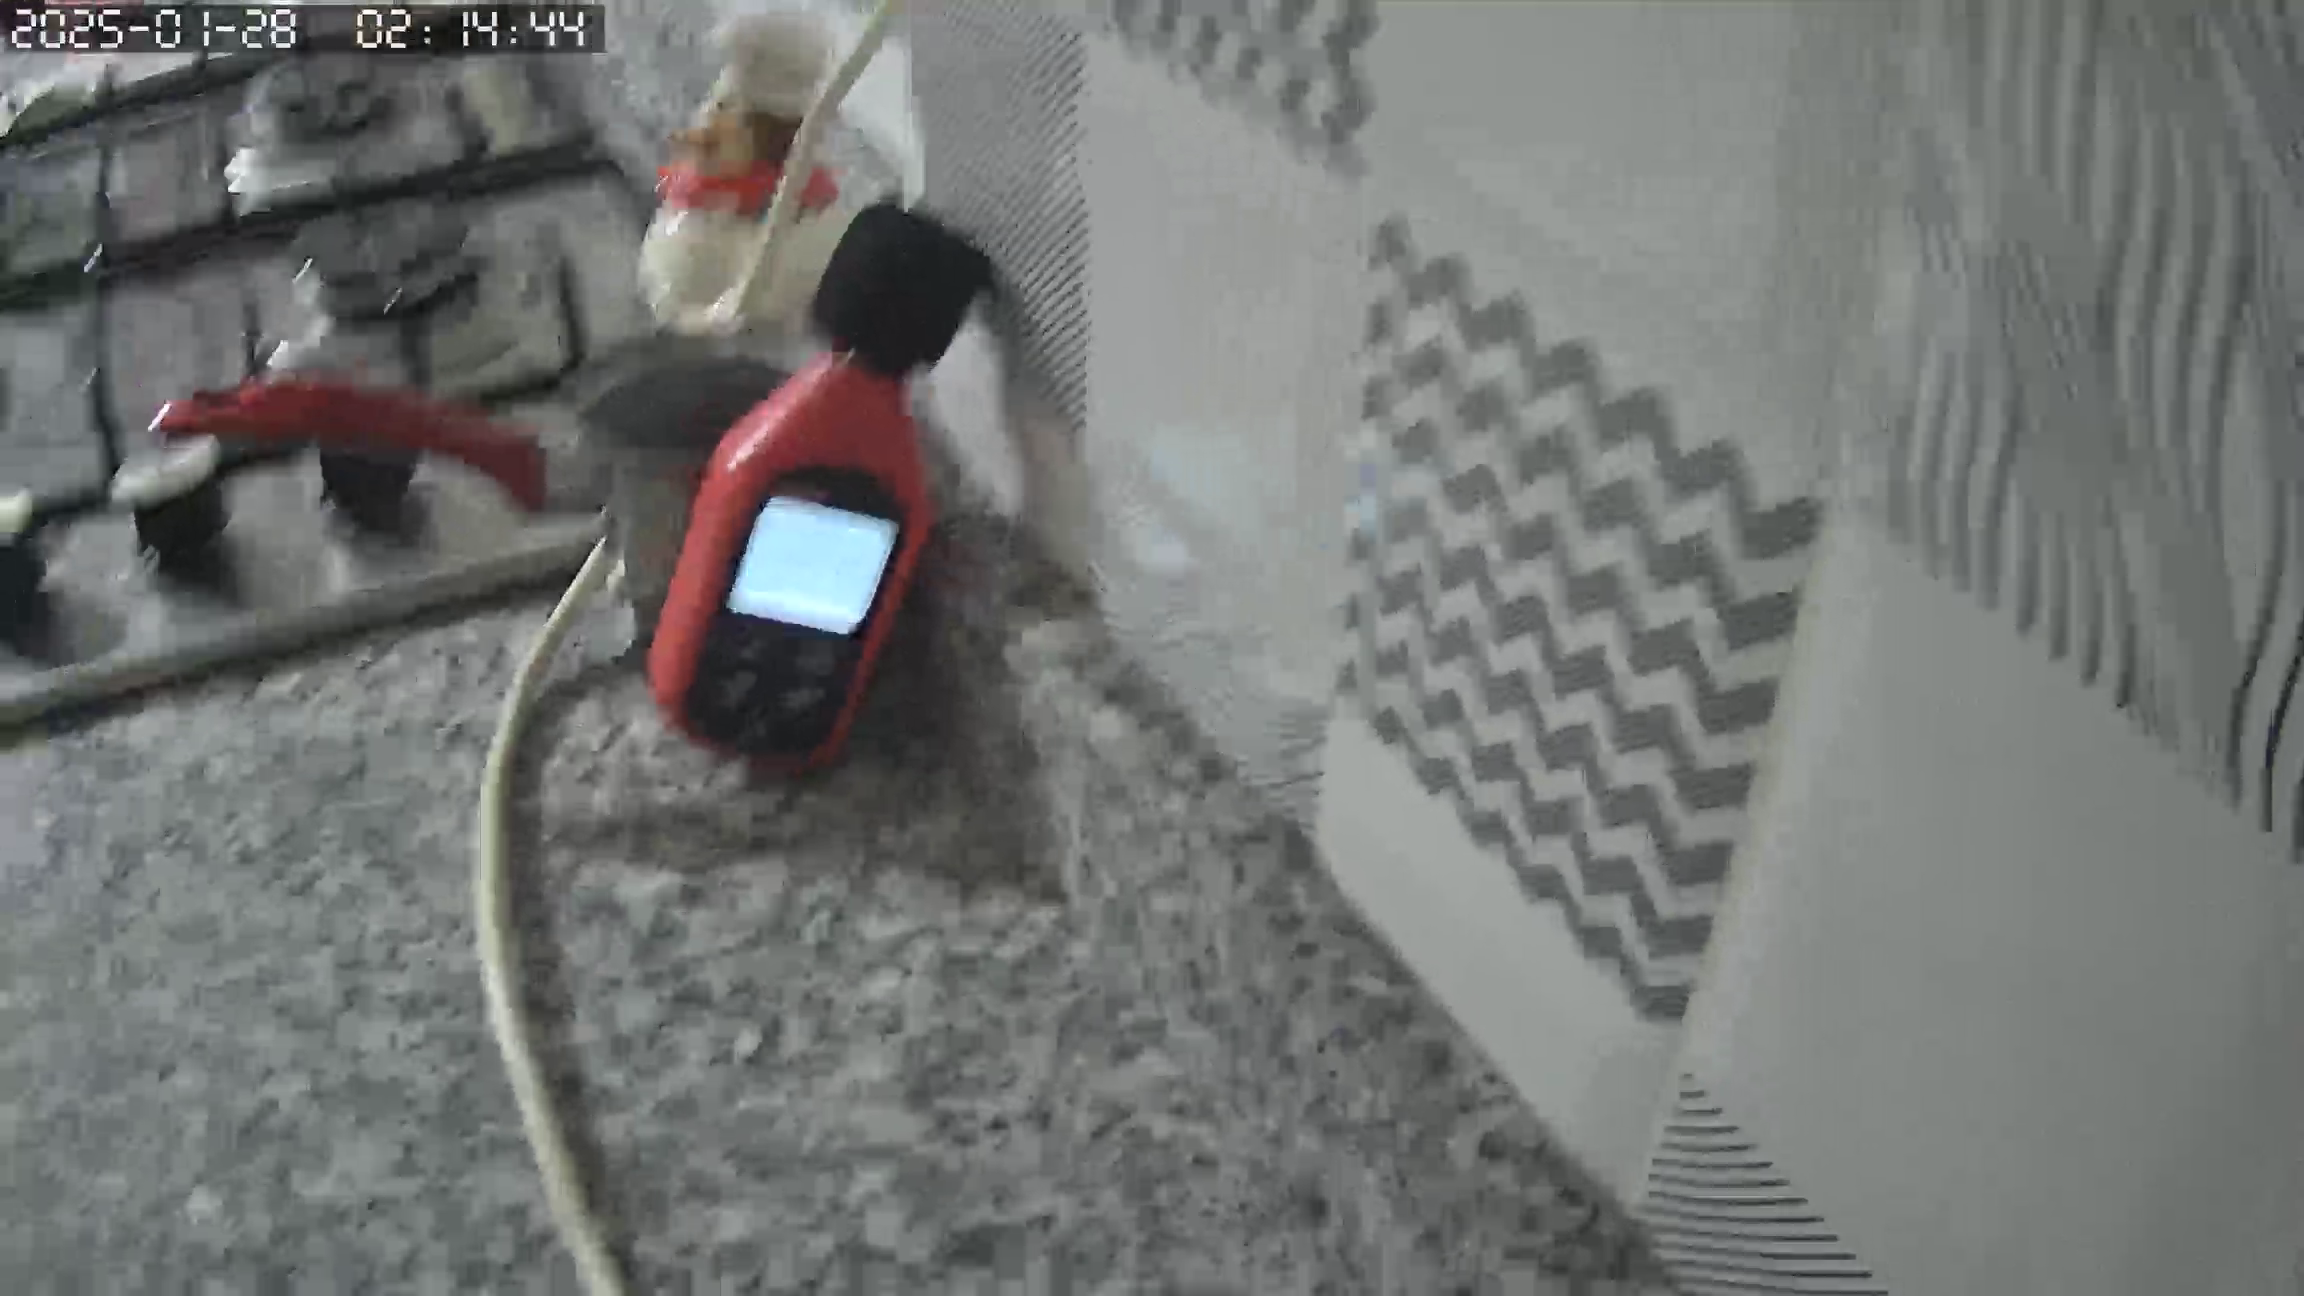screen: (726, 498, 897, 635)
